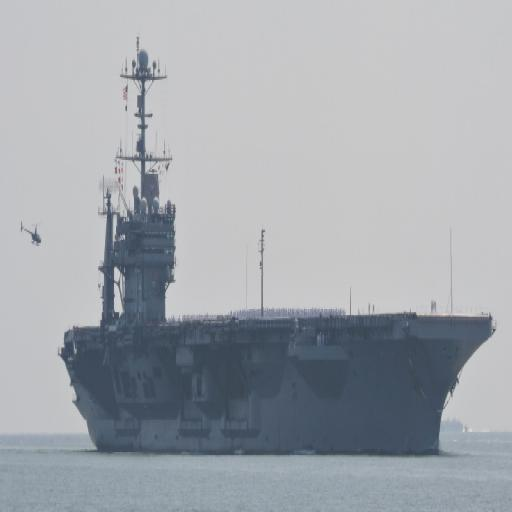Portanaves: (57, 30, 497, 458)
